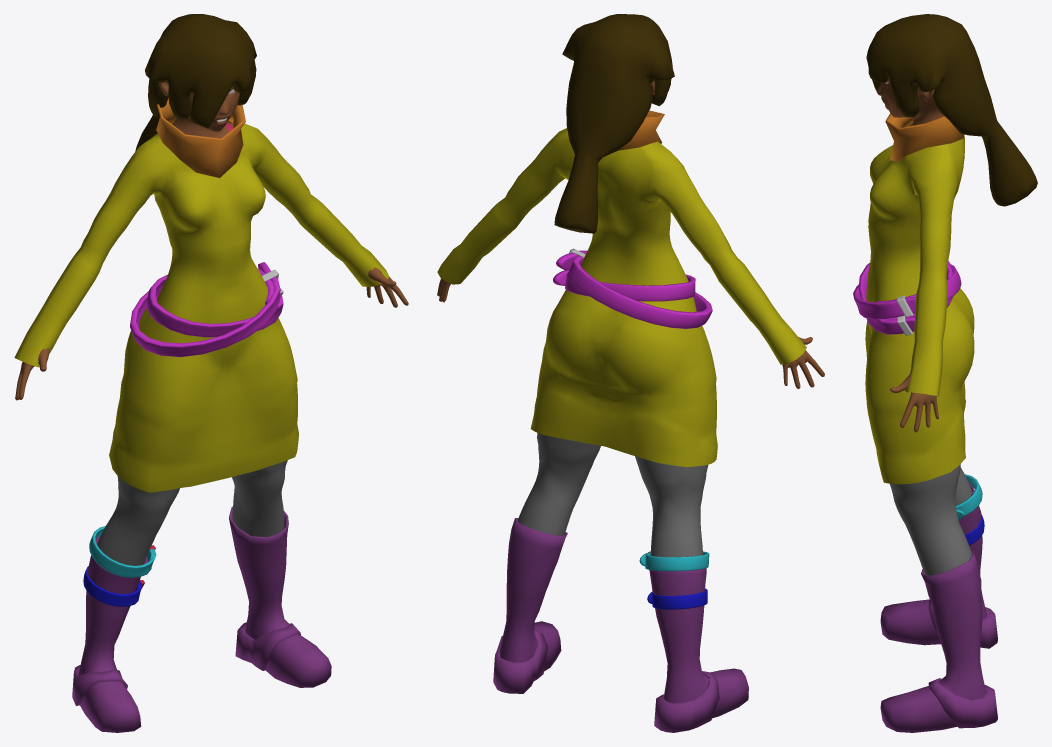
The model's file is Seirra.fbx.
3 views of the same model, side by side, from view 1: azimuth 30°, elevation 25°; view 2: azimuth 150°, elevation 25°; view 3: azimuth 270°, elevation 25° (orthographic). The views are drawn at different scales.
Parts seen in each view (by area): view 1: Jacket, Boots, Hair, Pants, TurtleNeck, Belt4, Seirra, Belt, Belt2, Belt3; view 2: Jacket, Boots, Hair, Pants, Belt4, Belt, Seirra, Belt2, Belt3, TurtleNeck; view 3: Jacket, Boots, Hair, Pants, TurtleNeck, Seirra, Belt4, Belt, Belt2.
Part boxes in pixels (x1=…): Jacket: x1=14, y1=121, x2=389, y2=492; Boots: x1=72, y1=506, x2=331, y2=732; Hair: x1=135, y1=14, x2=256, y2=151; Pants: x1=97, y1=460, x2=287, y2=565; TurtleNeck: x1=156, y1=98, x2=245, y2=177; Belt4: x1=130, y1=262, x2=280, y2=357; Seirra: x1=15, y1=81, x2=408, y2=400; Belt: x1=146, y1=274, x2=283, y2=337; Belt2: x1=89, y1=526, x2=156, y2=577; Belt3: x1=83, y1=566, x2=142, y2=606; Jacket: x1=437, y1=128, x2=806, y2=467; Boots: x1=493, y1=518, x2=748, y2=732; Hair: x1=554, y1=14, x2=674, y2=233; Pants: x1=517, y1=433, x2=708, y2=557; Belt4: x1=556, y1=250, x2=712, y2=328; Belt: x1=553, y1=270, x2=695, y2=301; Seirra: x1=437, y1=81, x2=824, y2=388; Belt2: x1=639, y1=551, x2=709, y2=571; Belt3: x1=647, y1=588, x2=707, y2=609; TurtleNeck: x1=618, y1=110, x2=664, y2=150; Jacket: x1=865, y1=123, x2=974, y2=484; Boots: x1=880, y1=481, x2=997, y2=732; Hair: x1=866, y1=14, x2=1037, y2=206; Pants: x1=890, y1=464, x2=972, y2=575; TurtleNeck: x1=885, y1=113, x2=964, y2=161; Seirra: x1=876, y1=78, x2=943, y2=432; Belt4: x1=853, y1=264, x2=961, y2=319; Belt: x1=858, y1=261, x2=953, y2=334; Belt2: x1=955, y1=474, x2=982, y2=519.
Size of the model in its own units: 99.88 by 166 by 42.
